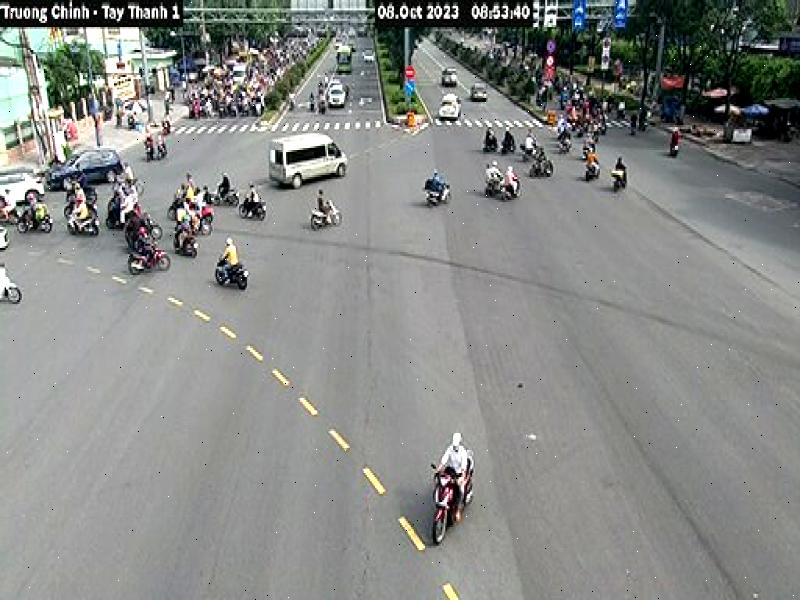car: (264, 130, 356, 188), (44, 142, 129, 189), (440, 91, 464, 123), (470, 81, 490, 106), (329, 84, 347, 110)
motorcycle: (423, 452, 481, 544), (121, 249, 177, 278), (0, 262, 25, 314), (214, 255, 252, 289), (16, 208, 53, 238), (307, 203, 348, 230), (168, 224, 198, 256), (236, 196, 270, 220), (426, 184, 454, 206), (527, 159, 557, 176), (503, 181, 526, 202), (580, 163, 606, 180)
